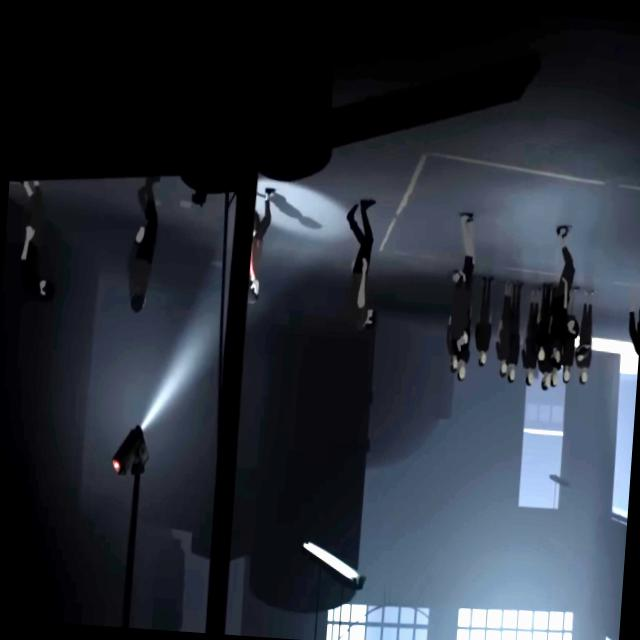boy: (247, 186, 274, 304)
human: (518, 287, 542, 386), (572, 288, 596, 386), (493, 278, 514, 378), (474, 275, 496, 367), (506, 281, 523, 383), (534, 282, 552, 362), (560, 340, 574, 384), (535, 362, 553, 391), (547, 339, 563, 364), (456, 352, 469, 382), (444, 351, 459, 374), (550, 364, 560, 388)
zombie: (338, 196, 384, 334), (14, 179, 58, 304), (125, 174, 162, 313), (446, 210, 478, 354), (548, 224, 586, 340), (624, 235, 640, 368)
